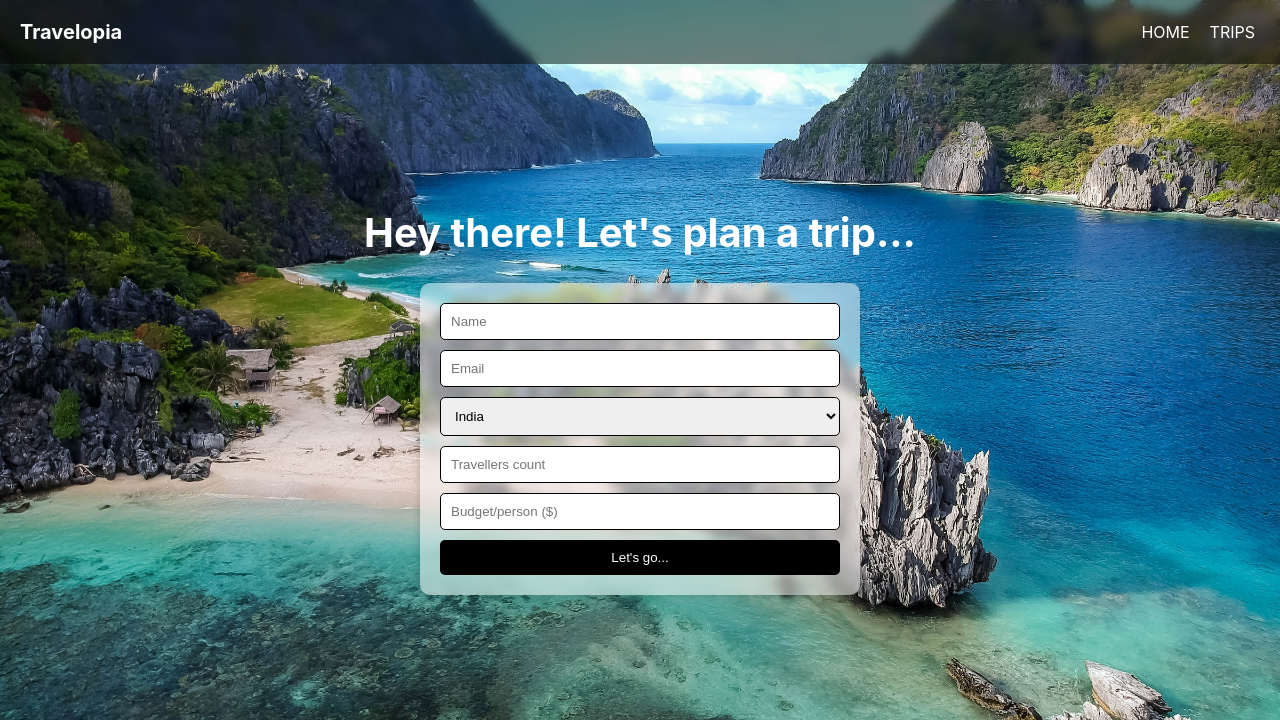
it: Travelopia › Shows the trips when navigating to /trips
Click the link "TRIPS" at (1233,32), box x1=1210 y1=22 x2=1255 y2=42
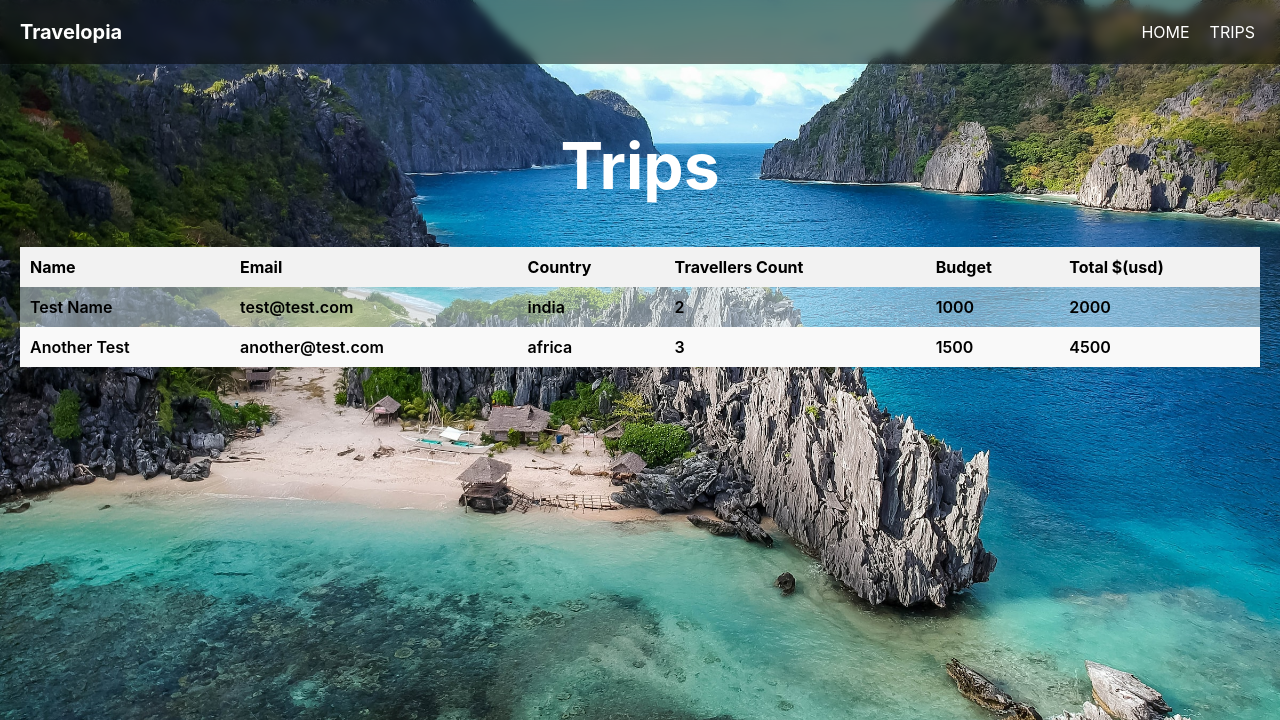
Now the heading "Trips" is shown, box x1=560 y1=127 x2=720 y2=204
